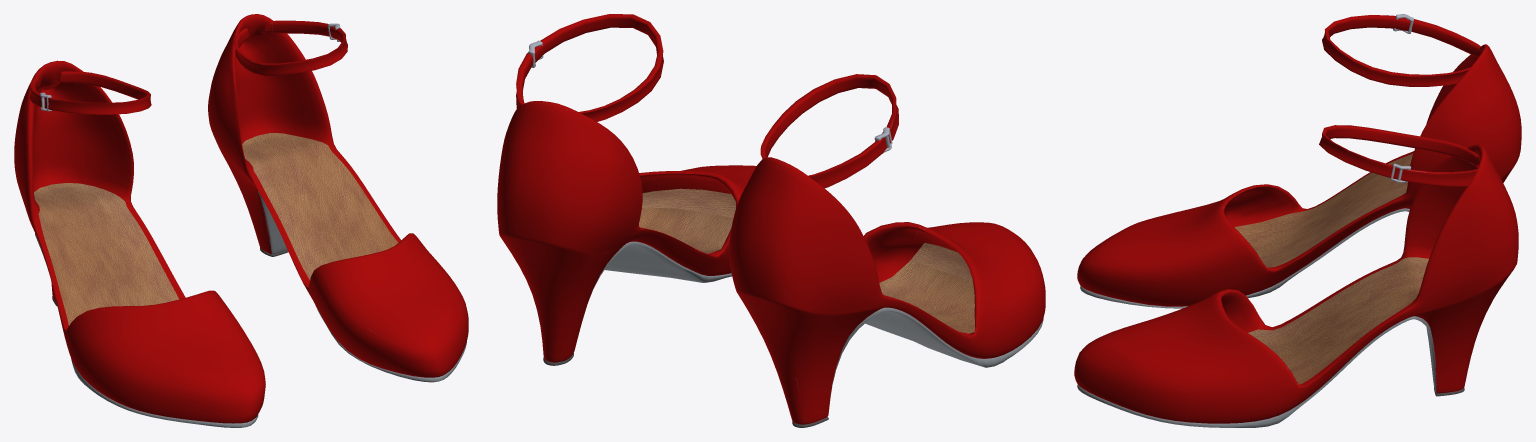
The model's file is women shoes.fbx.
The picture shows the model from 3 angles, left to right: view 1: azimuth 30°, elevation 25°; view 2: azimuth 150°, elevation 25°; view 3: azimuth 270°, elevation 25°; orthographic projection. The views are drawn at different scales.
Visible parts, largest first — view 1: women shoes, b1.001, Object #0.001; view 2: women shoes, b1.001, Object #0.001; view 3: women shoes, Object #0.001, b1.001.
Boxes of the visible parts, box(x1,y1,x2,y2) form: women shoes: box(14, 14, 468, 427); b1.001: box(34, 183, 179, 325); Object #0.001: box(242, 133, 398, 279); women shoes: box(497, 14, 1045, 427); b1.001: box(879, 243, 974, 333); Object #0.001: box(639, 188, 736, 253); women shoes: box(1074, 14, 1521, 427); Object #0.001: box(1248, 257, 1428, 384); b1.001: box(1234, 153, 1412, 267).
Size of the model in its own units: 570 by 370 by 584.
Materials: 4 (4 with a texture image).
